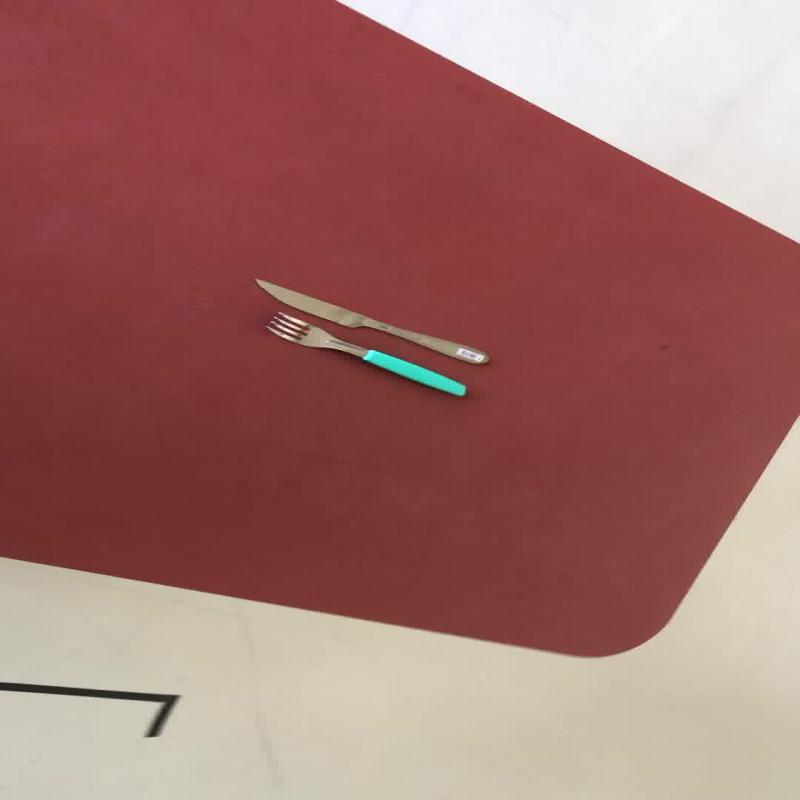fork: (261, 310, 466, 398)
knife: (252, 276, 490, 366)
